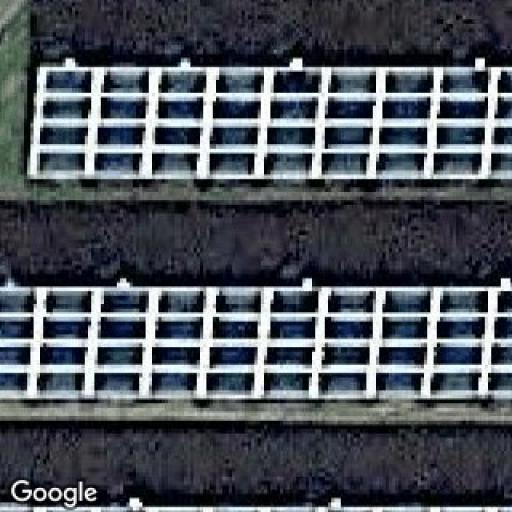solar-panel: (0, 286, 512, 406), (24, 64, 512, 179), (0, 502, 512, 512)
